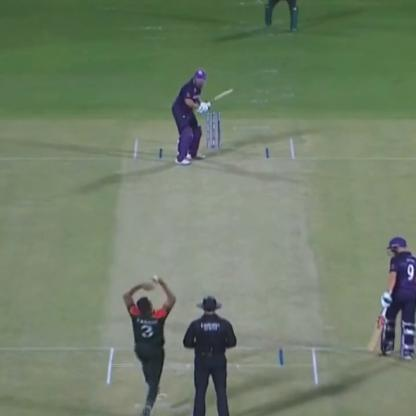ball: (149, 272, 160, 282)
pitch: (102, 131, 328, 403)
